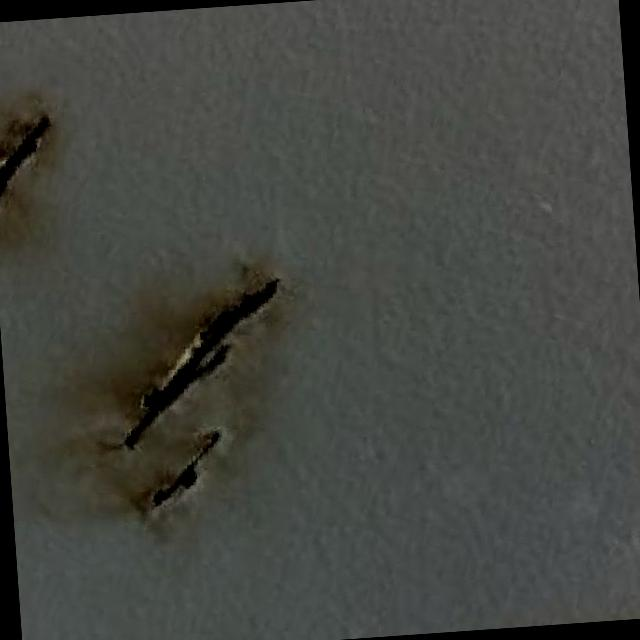crack: (123, 284, 280, 438), (0, 118, 59, 217), (147, 446, 216, 510)
